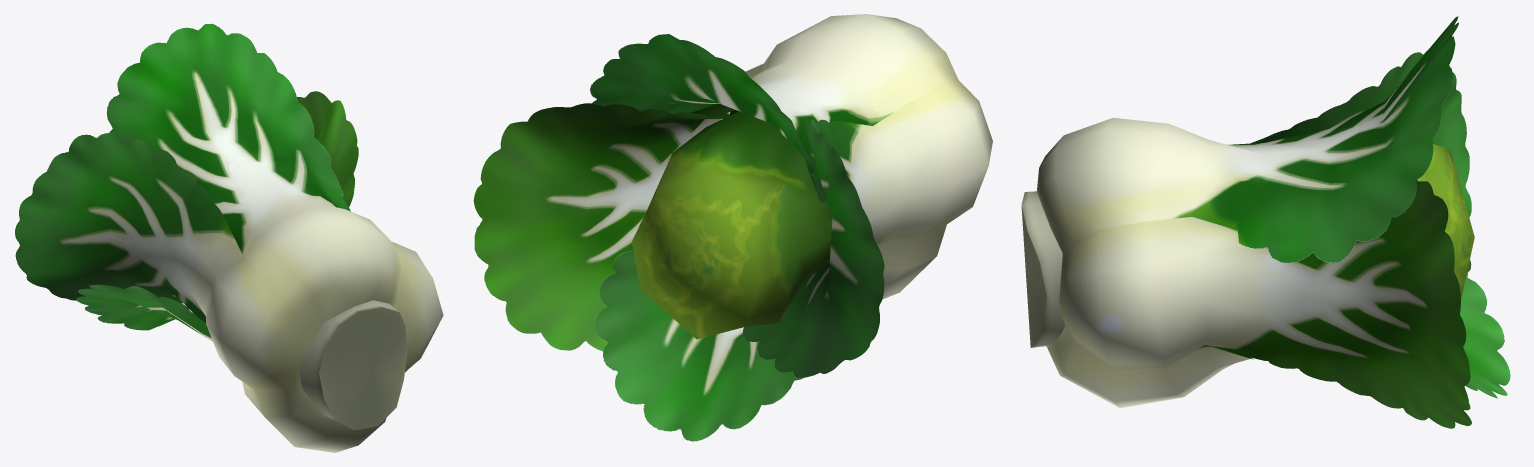
Rendered from Cabbage.fbx.
The picture shows the model from 3 angles, left to right: view 1: azimuth 30°, elevation 25°; view 2: azimuth 150°, elevation 25°; view 3: azimuth 270°, elevation 25°; orthographic projection. The views are drawn at different scales.
Parts seen in each view (by area): view 1: 031; view 2: 031; view 3: 031.
Part boxes in pixels (x1,y1,x2,y2): 031: (15,23,443,452); 031: (473,14,992,441); 031: (1021,16,1510,428).
Bounding box in the file's own units: 40.77 × 37.03 × 43.11.
Materials: 1 (1 with a texture image).
